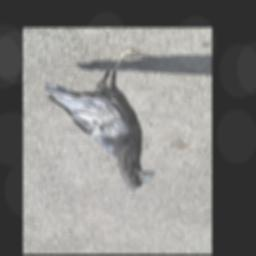Crow: (43, 49, 156, 192)
